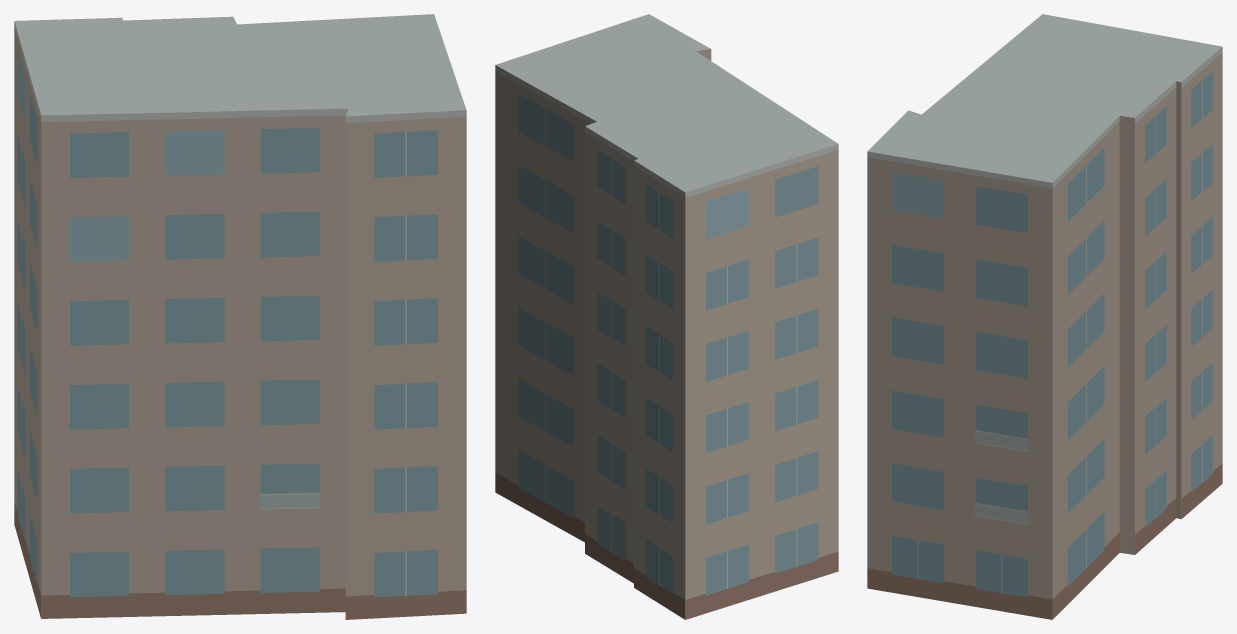
The model's file is survey-upis-32529973.glb.
3 renders of one model, left to right at view 1: azimuth 30°, elevation 25°; view 2: azimuth 150°, elevation 25°; view 3: azimuth 270°, elevation 25°, orthographic. The views are drawn at different scales.
Parts seen in each view (by area): view 1: survey-upis-32529973.tmp; view 2: survey-upis-32529973.tmp; view 3: survey-upis-32529973.tmp.
Part boxes in pixels (<box>): survey-upis-32529973.tmp: <box>14,14,466,619</box>; survey-upis-32529973.tmp: <box>495,14,838,619</box>; survey-upis-32529973.tmp: <box>867,14,1222,619</box>.
Bounding box in the file's own units: 15.18 × 18.3 × 13.49.
